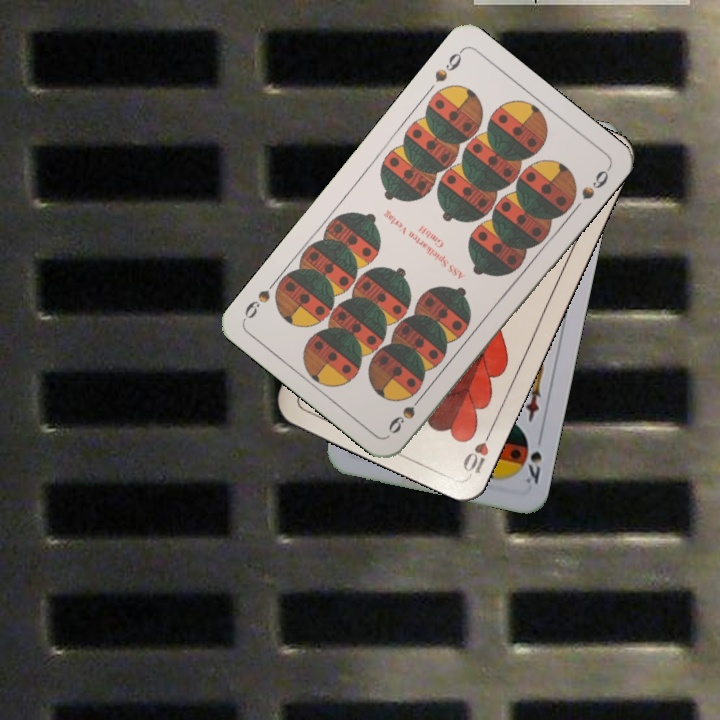H10: (459, 422, 496, 478)
S9: (384, 388, 428, 437), (430, 45, 466, 85)
SK: (521, 447, 545, 489)
